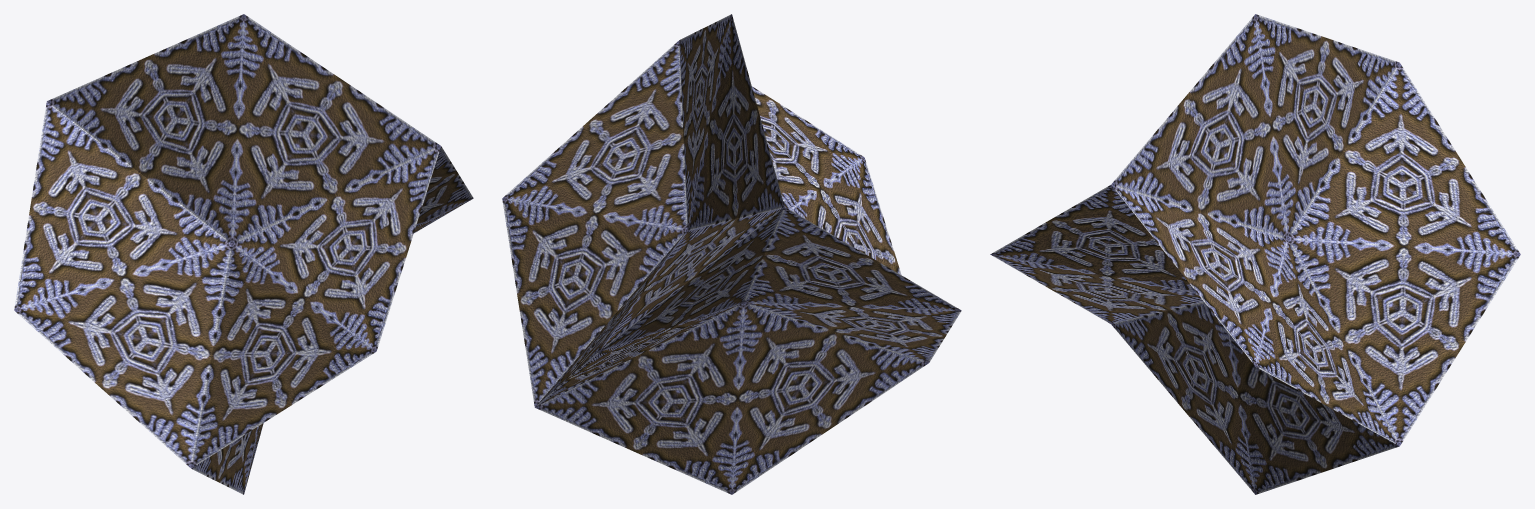
The model's file is Mobius24_3.obj.
3 views of the same model, side by side, from view 1: azimuth 30°, elevation 25°; view 2: azimuth 150°, elevation 25°; view 3: azimuth 270°, elevation 25° (orthographic).
Size of the model in its own units: 2.24 by 2.24 by 2.24.
1 material, 1 textured.
